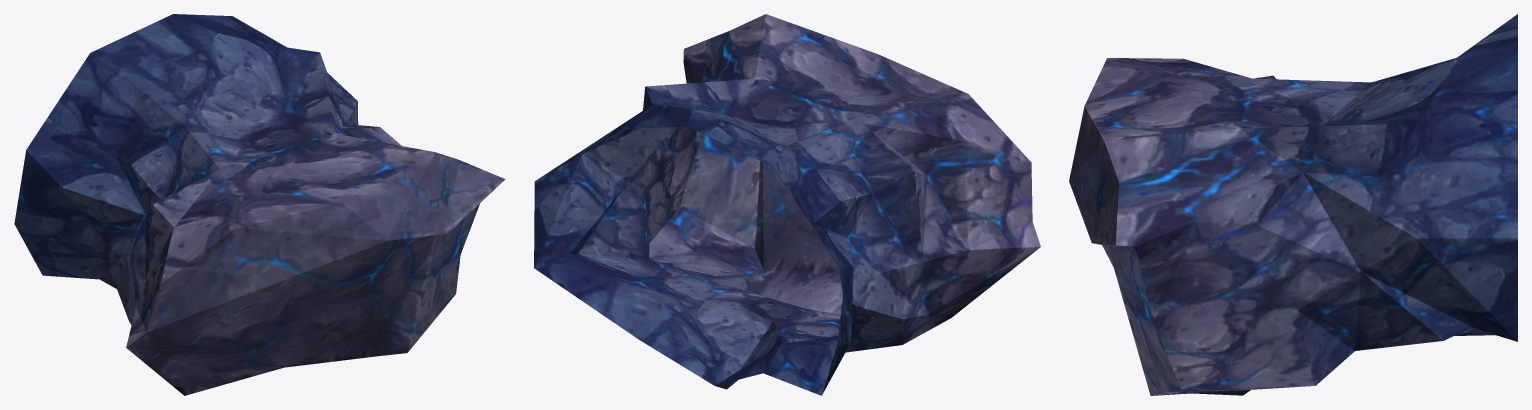
The model's file is zhanchang_fuben_271_bstone04.obj.
3 views of the same model, side by side, from view 1: azimuth 30°, elevation 25°; view 2: azimuth 150°, elevation 25°; view 3: azimuth 270°, elevation 25° (orthographic). The views are drawn at different scales.
Visible parts, largest first — view 1: zhanchang_fuben_271_bstone04; view 2: zhanchang_fuben_271_bstone04; view 3: zhanchang_fuben_271_bstone04.
Boxes of the visible parts, left/top/right/bottom form: zhanchang_fuben_271_bstone04: left=14, top=14, right=505, bottom=395; zhanchang_fuben_271_bstone04: left=534, top=14, right=1040, bottom=395; zhanchang_fuben_271_bstone04: left=1069, top=14, right=1517, bottom=395.
Bounding box in the file's own units: 180 × 127 × 157.
Materials: 2 (2 with a texture image).
